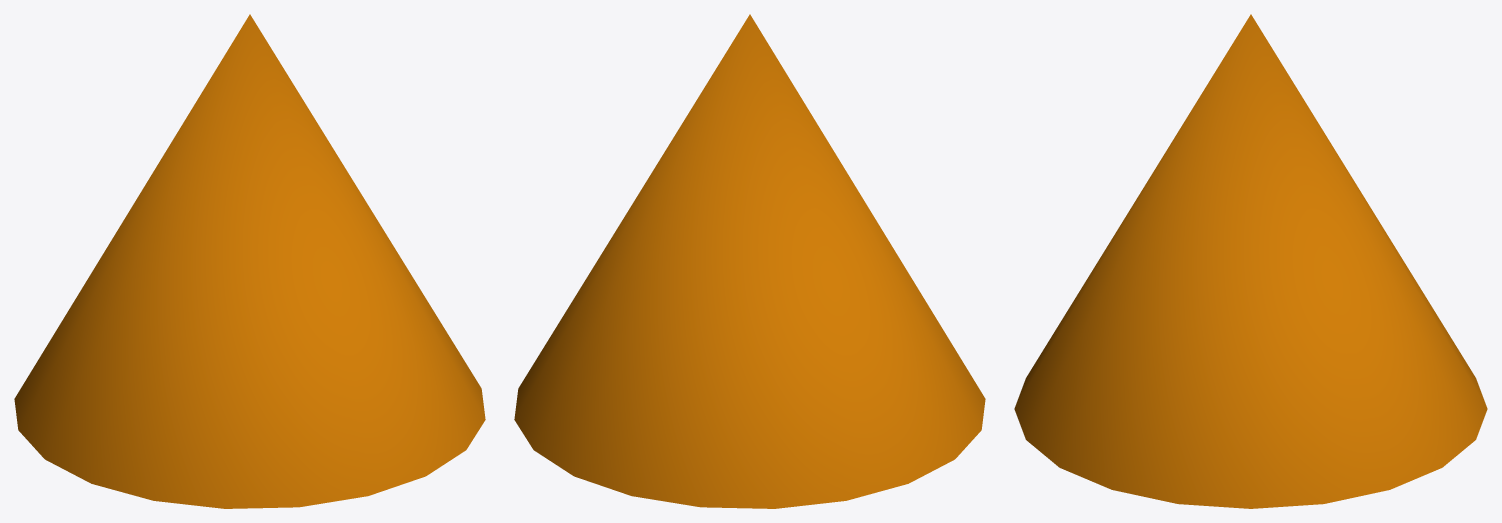
Rendered from DaredevilExplosion.fbx.
The picture shows the model from 3 angles, left to right: view 1: azimuth 30°, elevation 25°; view 2: azimuth 150°, elevation 25°; view 3: azimuth 270°, elevation 25°; orthographic projection.
Parts seen in each view (by area): view 1: pCone1; view 2: pCone1; view 3: pCone1.
Part boxes in pixels (x1,y1,x2,y2): pCone1: (14, 14, 485, 508); pCone1: (514, 14, 985, 508); pCone1: (1014, 14, 1487, 508).
Bounding box in the file's own units: 9.83 × 9.05 × 9.83.
